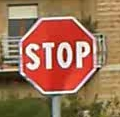stop: (16, 16, 100, 94)
